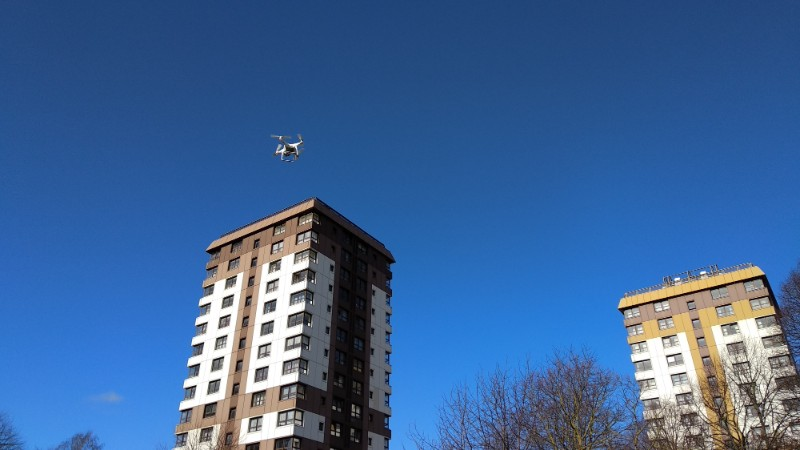drone: (269, 132, 310, 163)
